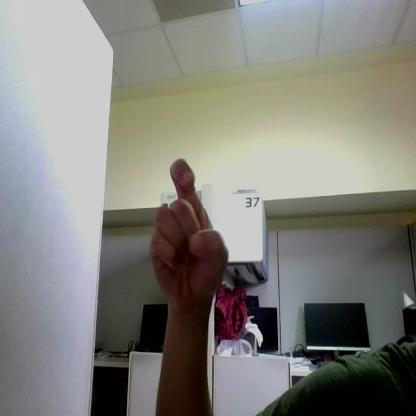X: (151, 158, 228, 302)
